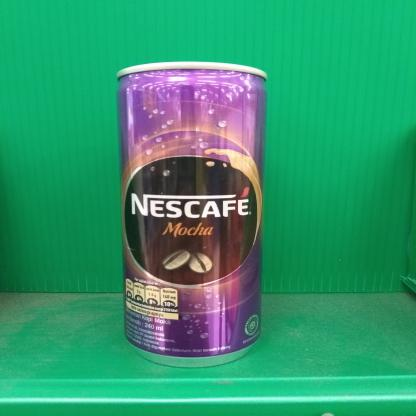can: (110, 58, 270, 366)
